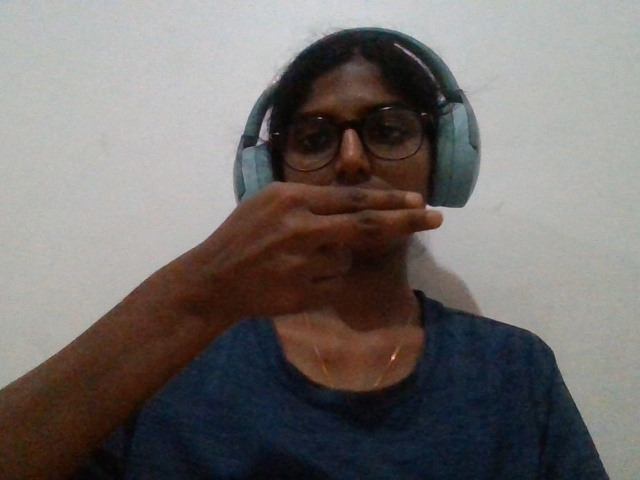H: (162, 181, 464, 342)
